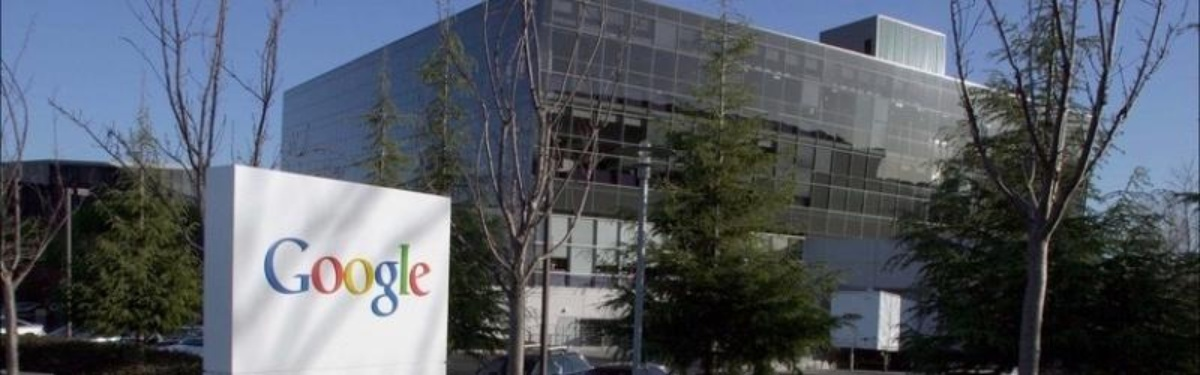text: (273, 235, 288, 319), (289, 235, 304, 319), (305, 235, 320, 319), (321, 235, 336, 319), (337, 235, 352, 319), (353, 235, 368, 319), (369, 235, 384, 319), (385, 235, 400, 319), (401, 235, 416, 319), (417, 235, 432, 319), (262, 235, 272, 319), (433, 235, 434, 319)
